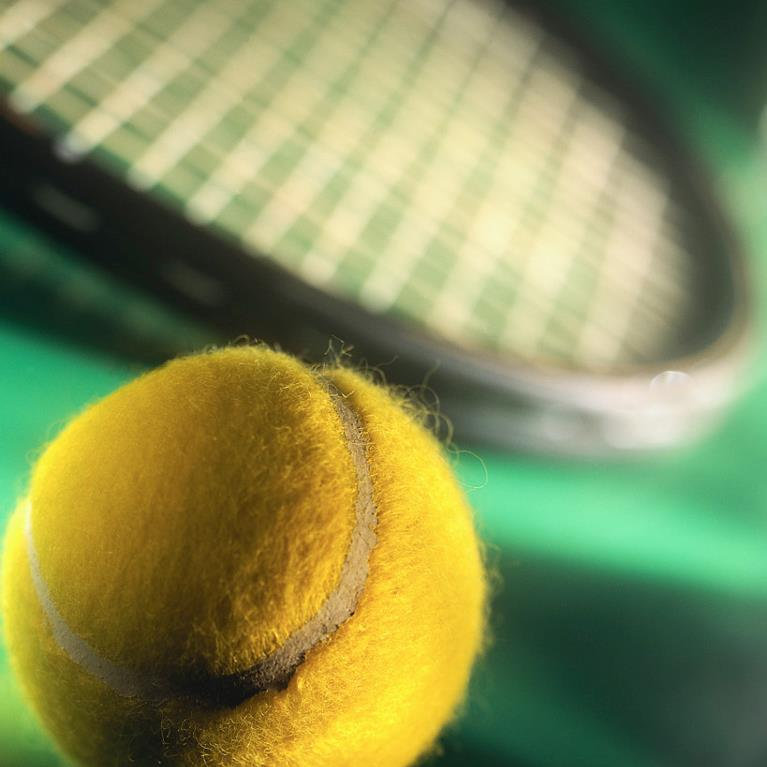tennis_ball: (2, 343, 508, 767)
